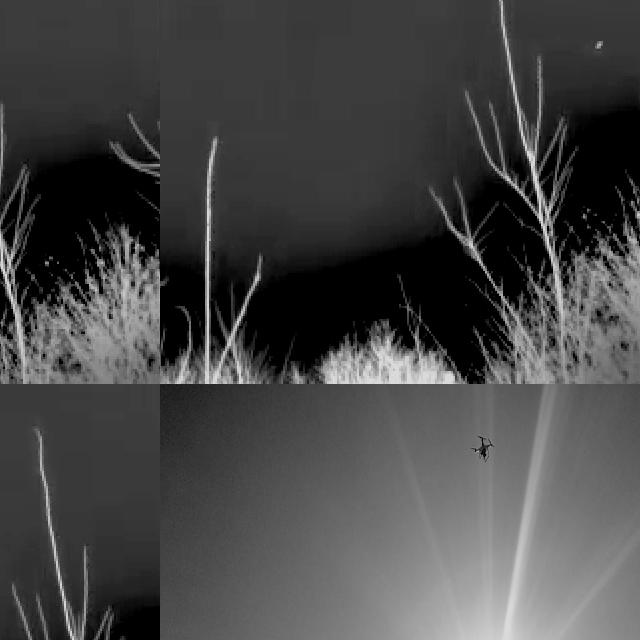0: (585, 32, 611, 62)
drone: (473, 432, 496, 467)
